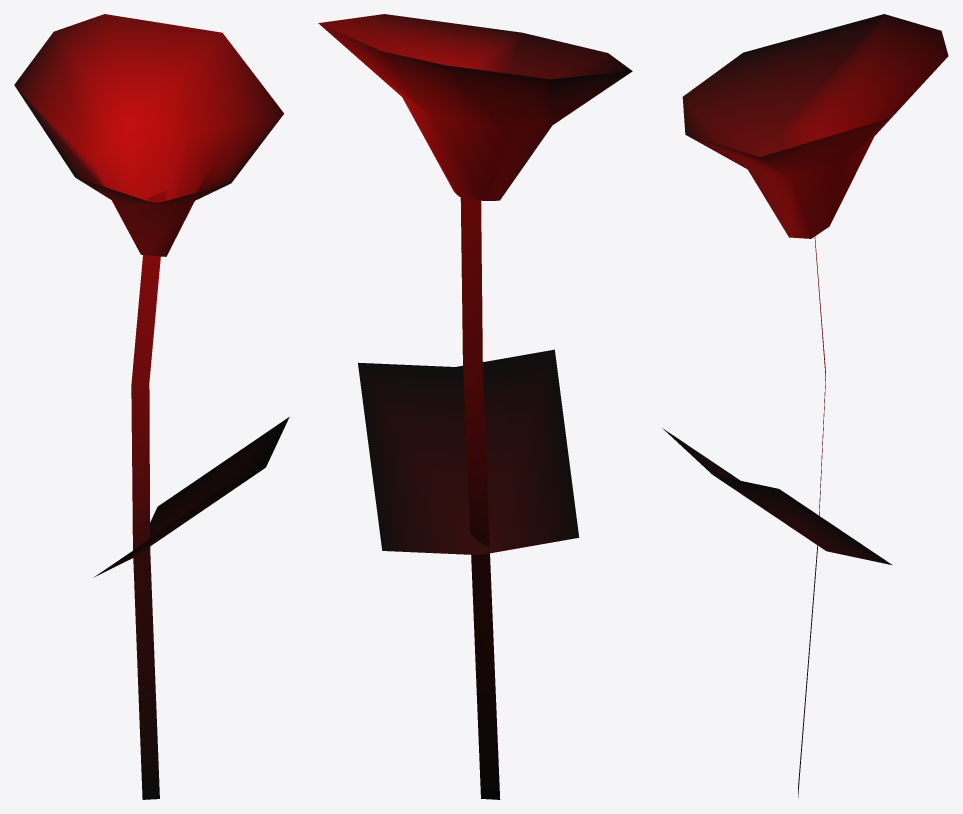
File: SM_Flower_02_c.FBX
3 renders of one model, left to right at view 1: azimuth 30°, elevation 25°; view 2: azimuth 150°, elevation 25°; view 3: azimuth 270°, elevation 25°, orthographic. The views are drawn at different scales.
Parts seen in each view (by area): view 1: SM_Flower_02_c_LOD0; view 2: SM_Flower_02_c_LOD0; view 3: SM_Flower_02_c_LOD0.
Part boxes in pixels (bbox=[...]): SM_Flower_02_c_LOD0: bbox=[14, 14, 289, 799]; SM_Flower_02_c_LOD0: bbox=[318, 14, 632, 799]; SM_Flower_02_c_LOD0: bbox=[662, 14, 948, 797].
Bounding box in the file's own units: 22.5 × 23.29 × 67.37.
